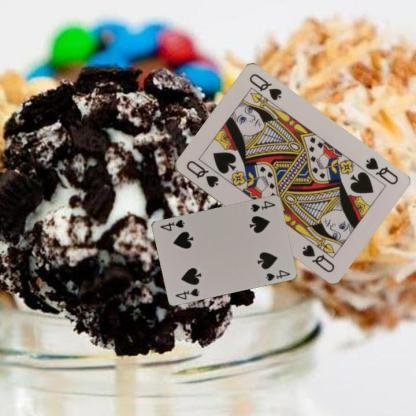4s: (248, 198, 277, 214), (172, 286, 202, 300)
Qs: (362, 154, 400, 186), (182, 158, 220, 189)
